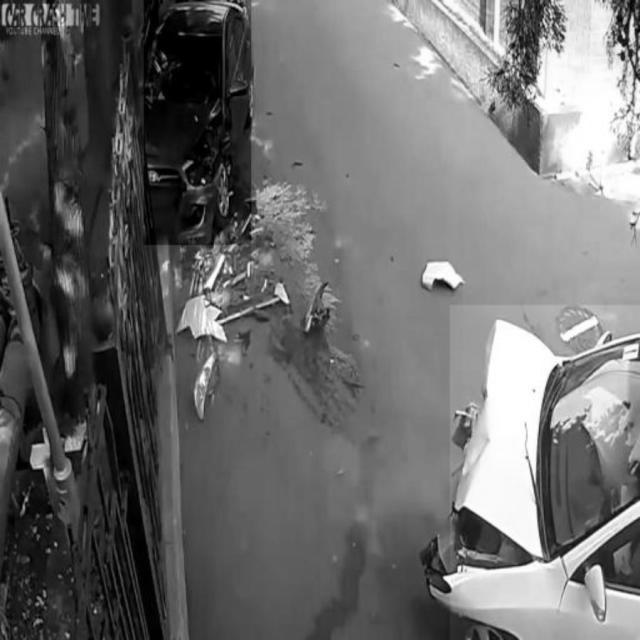vehicle: (450, 305, 640, 640), (144, 0, 251, 244)
